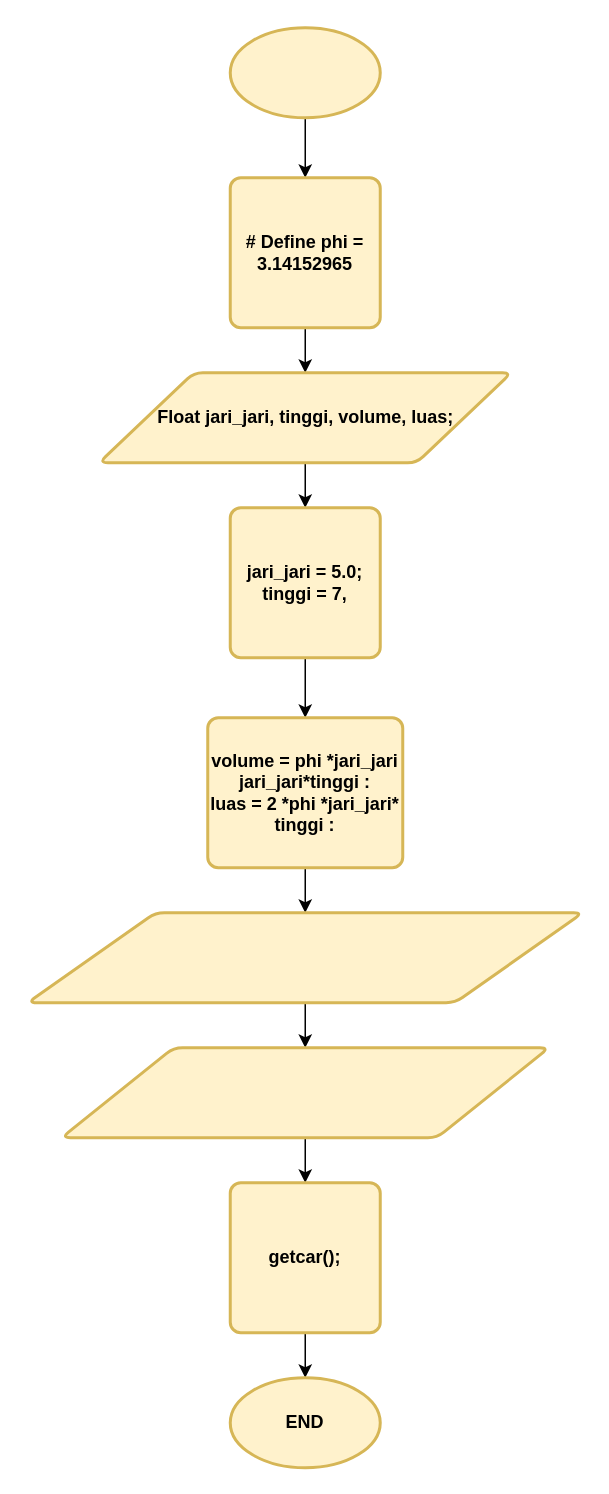
This 609x1494 diagram has some shape labels left out. The shapes that lost their labels are listed below. From the top down, each one's box as (x1, y1, x2, y2) in pixels, then its label:
(228, 26, 381, 118): START
(26, 910, 584, 1004): cout <<"volume tabung =" << volume << endl ;
(59, 1046, 550, 1138): cout << " luas tabung = " << luas << endl ;
